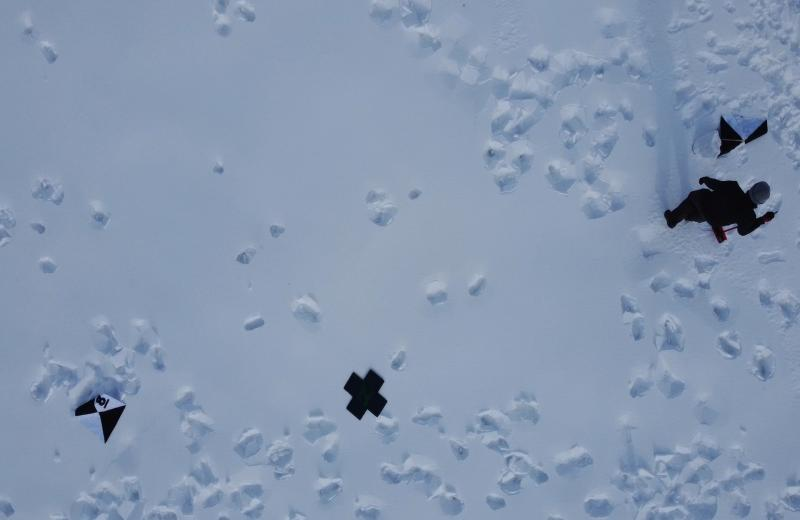Cross: (344, 368, 388, 422)
